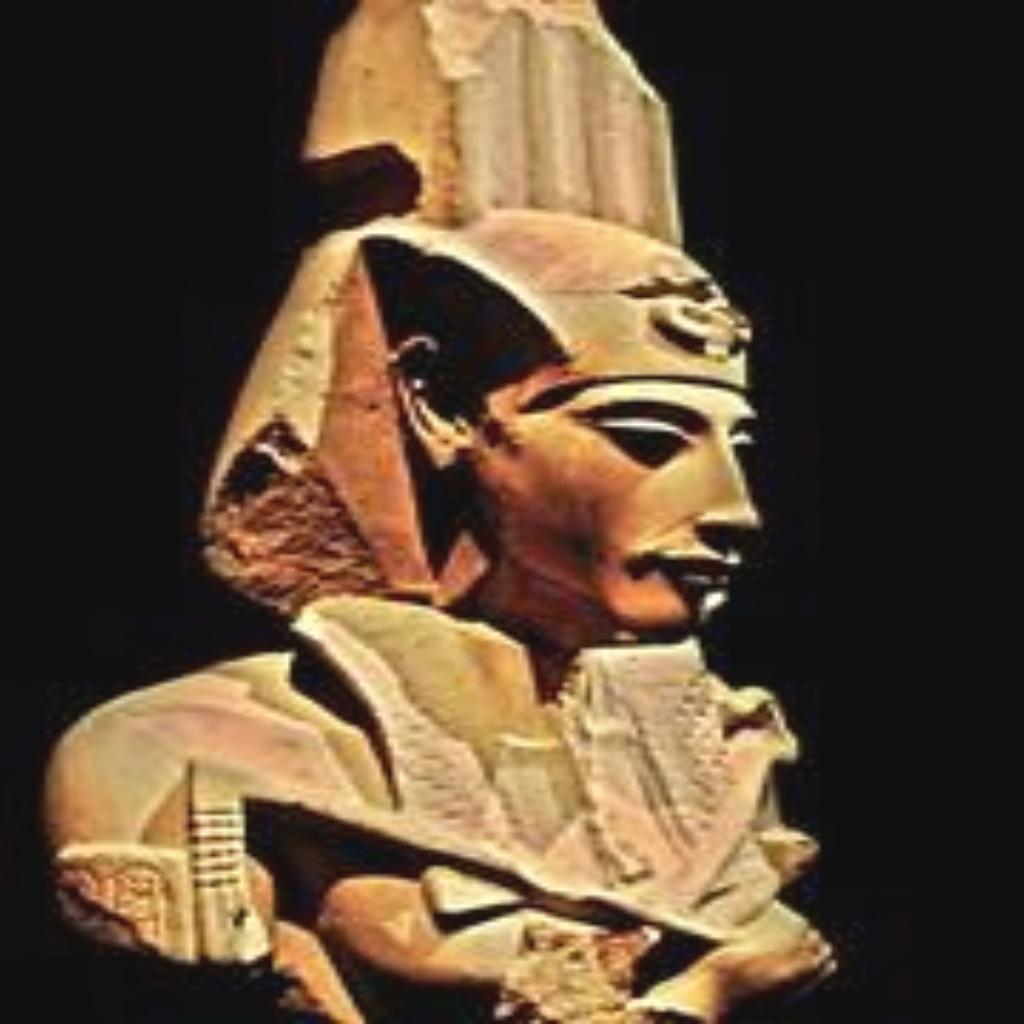Akhenaten: (27, 0, 853, 1024)
